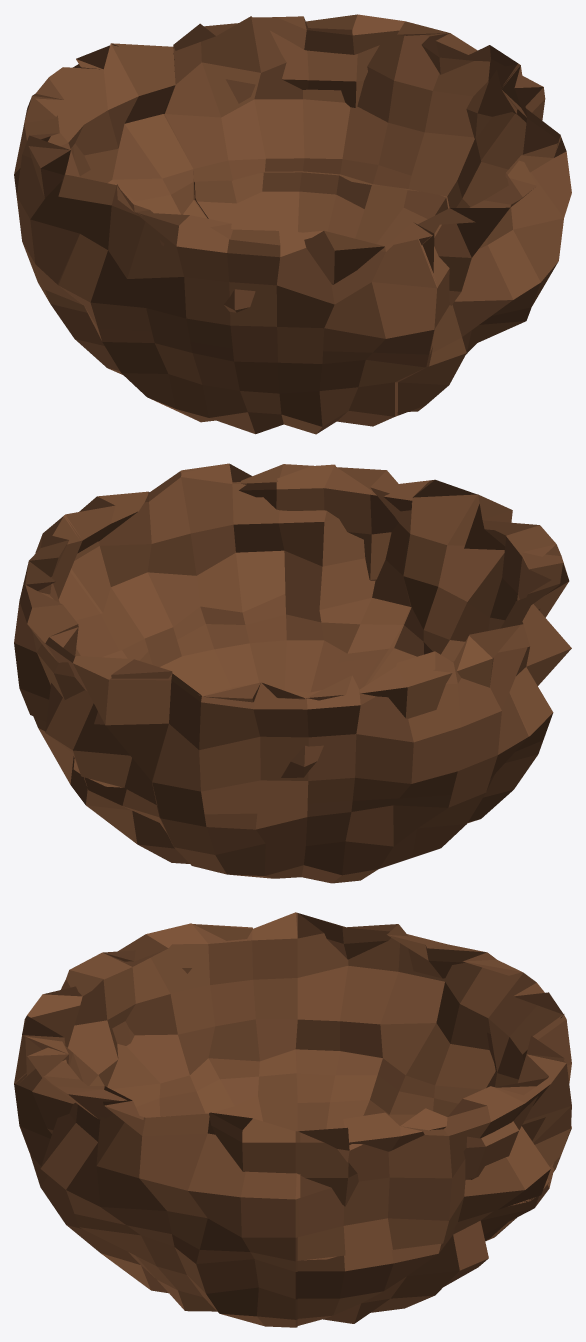
Rendered from Birdnest_Breakable.obj.
3 views of the same model, one above another, from view 1: azimuth 30°, elevation 25°; view 2: azimuth 150°, elevation 25°; view 3: azimuth 270°, elevation 25° (orthographic). The views are drawn at different scales.
Parts seen in each view (by area): view 1: part2, part5, part3, part8, part6, part1, part7, part4; view 2: part8, part3, part2, part5, part4, part7, part1, part6; view 3: part5, part3, part8, part2, part7, part1, part4, part6.
Part boxes in pixels (left/top/right/bottom): part2: left=165, top=14, right=517, bottom=207; part5: left=57, top=173, right=438, bottom=354; part3: left=14, top=43, right=193, bottom=304; part8: left=417, top=63, right=571, bottom=353; part6: left=85, top=307, right=431, bottom=434; part1: left=194, top=171, right=449, bottom=246; part7: left=397, top=307, right=531, bottom=415; part4: left=33, top=181, right=207, bottom=374; part8: left=63, top=463, right=429, bottom=660; part3: left=152, top=624, right=528, bottom=814; part2: left=14, top=516, right=172, bottom=804; part5: left=402, top=479, right=571, bottom=751; part4: left=157, top=774, right=494, bottom=883; part7: left=139, top=614, right=402, bottom=697; part1: left=33, top=716, right=189, bottom=863; part6: left=364, top=625, right=543, bottom=822; part5: left=14, top=912, right=297, bottom=1155; part3: left=297, top=913, right=571, bottom=1147; part8: left=15, top=1036, right=300, bottom=1261; part2: left=297, top=1035, right=571, bottom=1260; part7: left=30, top=1156, right=297, bottom=1327; part1: left=297, top=1163, right=553, bottom=1325; part4: left=297, top=1073, right=561, bottom=1241; part6: left=30, top=1073, right=297, bottom=1155.
Size of the model in its own units: 2.23 by 1.23 by 2.33.
8 materials, 8 textured.
